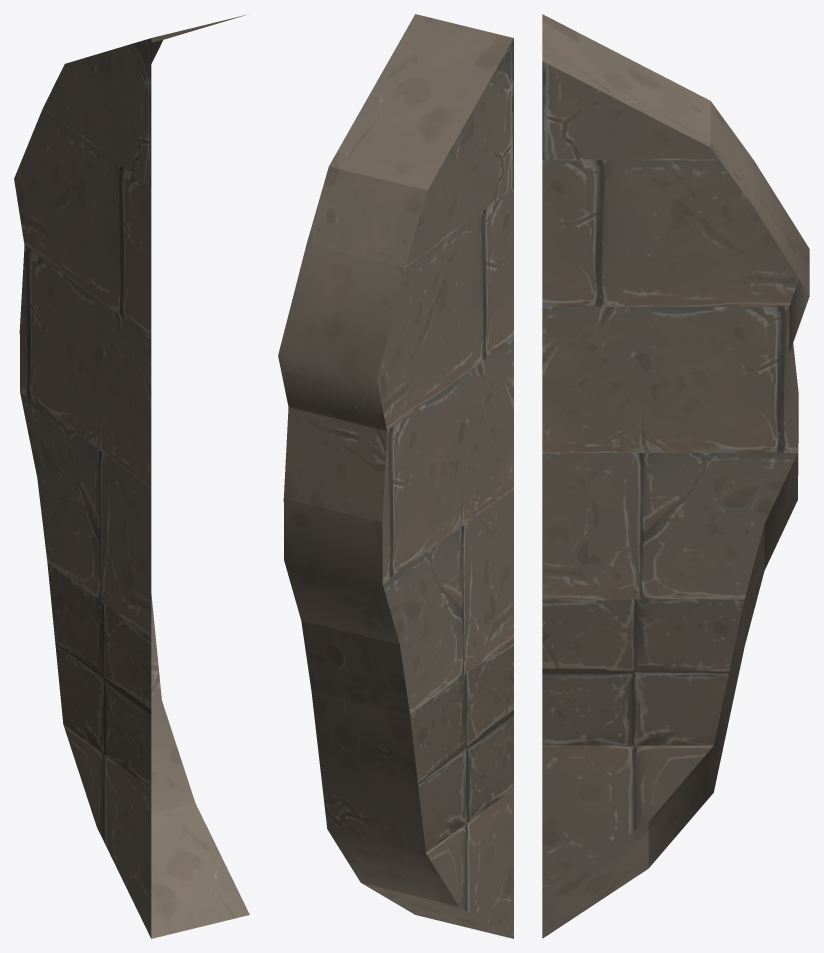
The model's file is Ruins_BaseWall_Broken_06a.fbx.
3 renders of one model, left to right at view 1: azimuth 30°, elevation 25°; view 2: azimuth 150°, elevation 25°; view 3: azimuth 270°, elevation 25°, orthographic. The views are drawn at different scales.
Visible parts, largest first — view 1: Ruins_BaseWall_Broken_06a; view 2: Ruins_BaseWall_Broken_06a; view 3: Ruins_BaseWall_Broken_06a.
Boxes of the visible parts, box(x1,y1,x2,y2) form: Ruins_BaseWall_Broken_06a: box(14, 15, 249, 938); Ruins_BaseWall_Broken_06a: box(278, 14, 513, 938); Ruins_BaseWall_Broken_06a: box(542, 14, 809, 938).
Bounding box in the file's own units: 0.5 × 4.36 × 1.21.
Materials: 1 (1 with a texture image).
